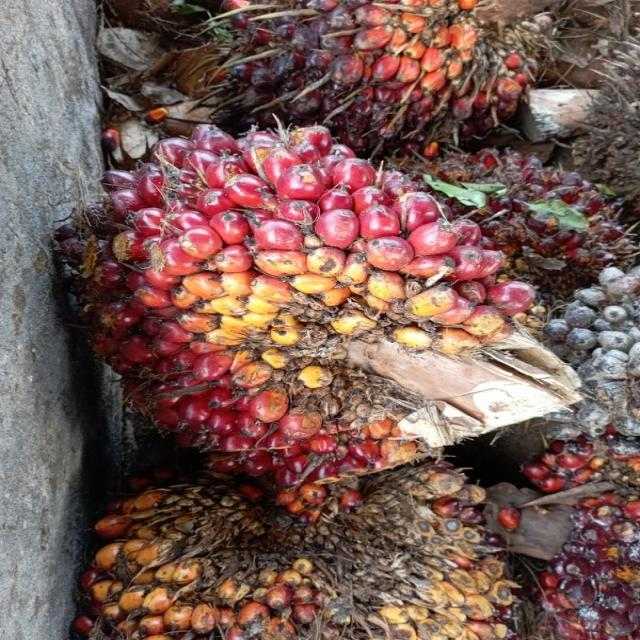fraksi 3: (0, 90, 640, 540)
